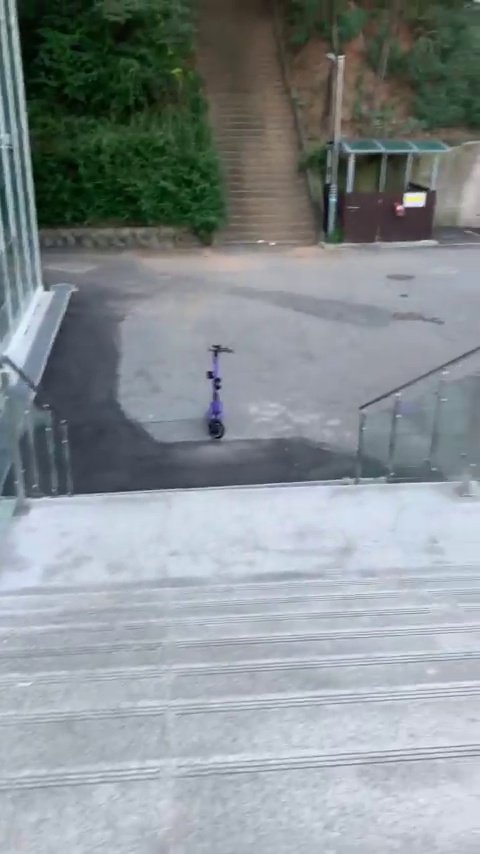beam: (195, 337, 245, 447)
